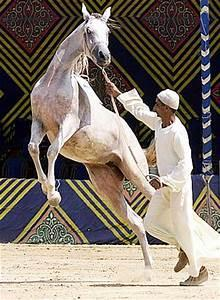horse: (27, 2, 160, 279)
